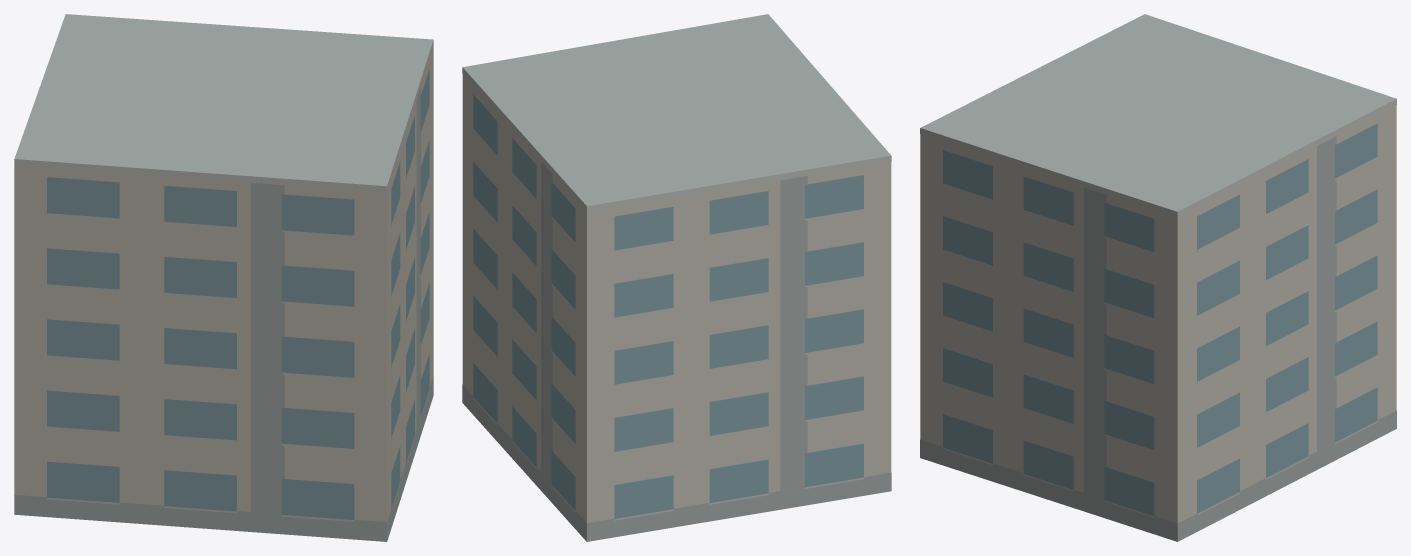
File: survey-upis-32883446.glb
The picture shows the model from 3 angles, left to right: view 1: azimuth 30°, elevation 25°; view 2: azimuth 150°, elevation 25°; view 3: azimuth 270°, elevation 25°; orthographic projection. The views are drawn at different scales.
Parts seen in each view (by area): view 1: survey-upis-32883446.tmp; view 2: survey-upis-32883446.tmp; view 3: survey-upis-32883446.tmp.
Boxes of the visible parts, bbox=[...] form: survey-upis-32883446.tmp: bbox=[14, 14, 433, 541]; survey-upis-32883446.tmp: bbox=[462, 14, 891, 541]; survey-upis-32883446.tmp: bbox=[920, 14, 1396, 541].
Size of the model in its own units: 16.72 by 13 by 17.02.
